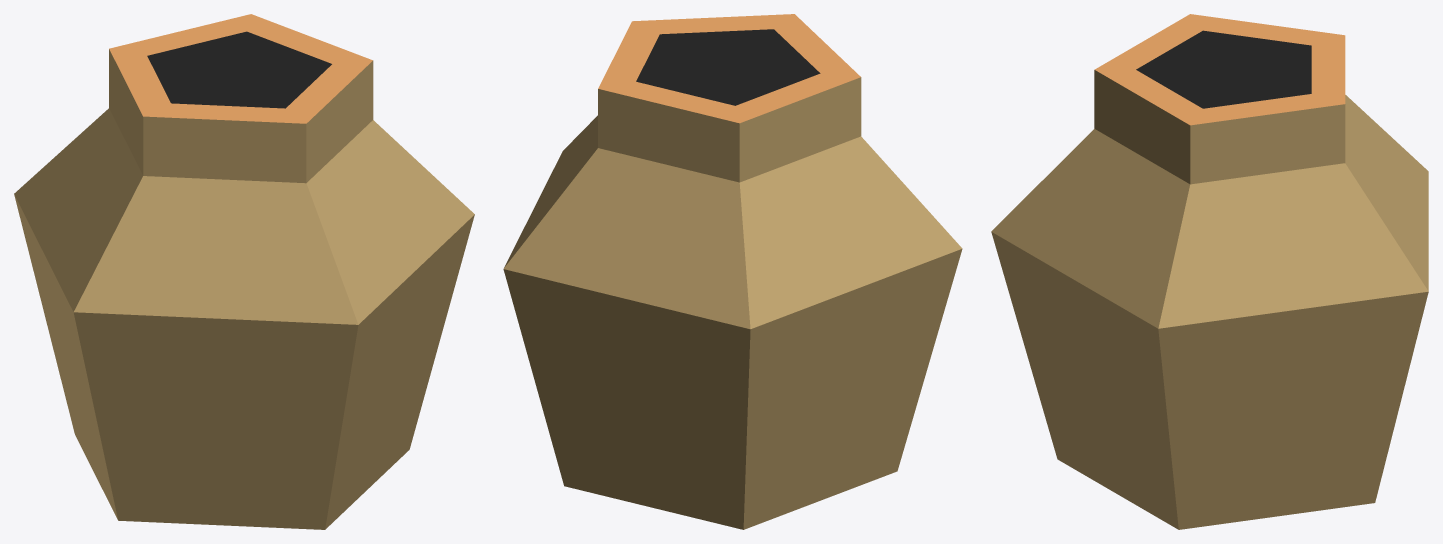
File: TB_Prop_Jar_A.FBX
The picture shows the model from 3 angles, left to right: view 1: azimuth 30°, elevation 25°; view 2: azimuth 150°, elevation 25°; view 3: azimuth 270°, elevation 25°; orthographic projection.
Visible parts, largest first — view 1: TB_Prop_Jar_A; view 2: TB_Prop_Jar_A; view 3: TB_Prop_Jar_A.
Boxes of the visible parts, x1,y1,x2,y2 form: TB_Prop_Jar_A: (14, 14, 474, 529); TB_Prop_Jar_A: (503, 14, 962, 529); TB_Prop_Jar_A: (991, 14, 1428, 529).
Bounding box in the file's own units: 0.8126 × 0.7593 × 0.7728.
